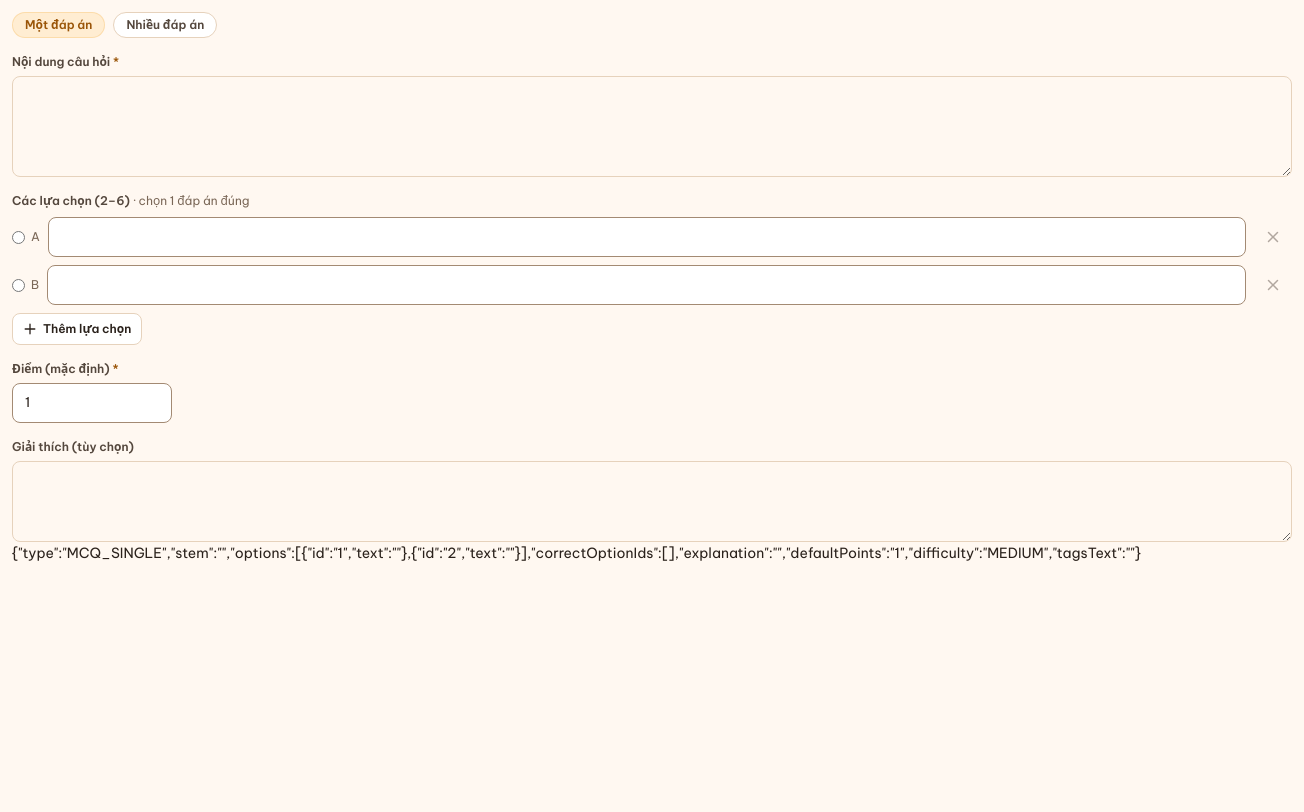
McqEditor › thêm lựa chọn tới 6 thì khóa nút, ít nhất 2 thì không xóa được
Expected: the button with test id "mcq-editor-remove-0" is disabled, [1254,221,1292,253]
Click the button with test id "mcq-editor-add-option" at (77, 329), box [12,313,142,345]
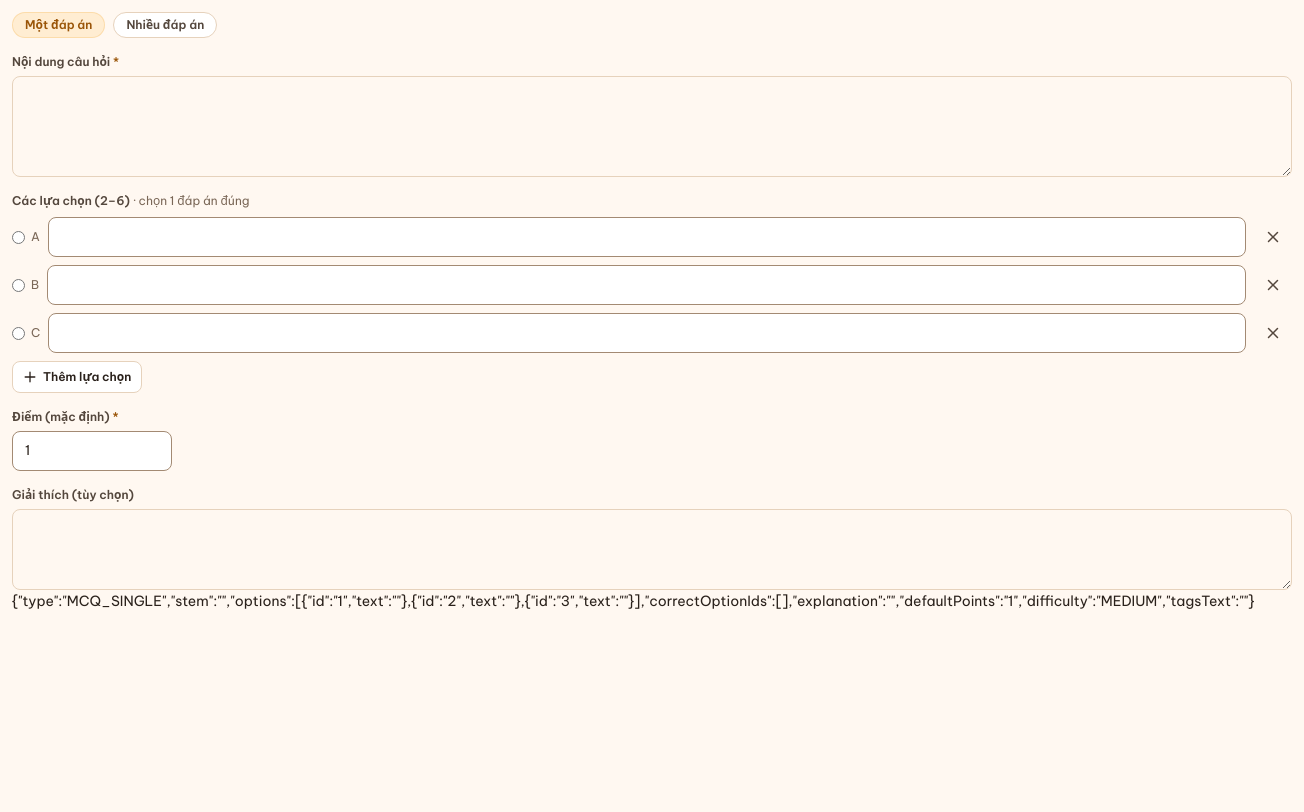
Click the button with test id "mcq-editor-add-option" at (77, 377), box [12,361,142,393]
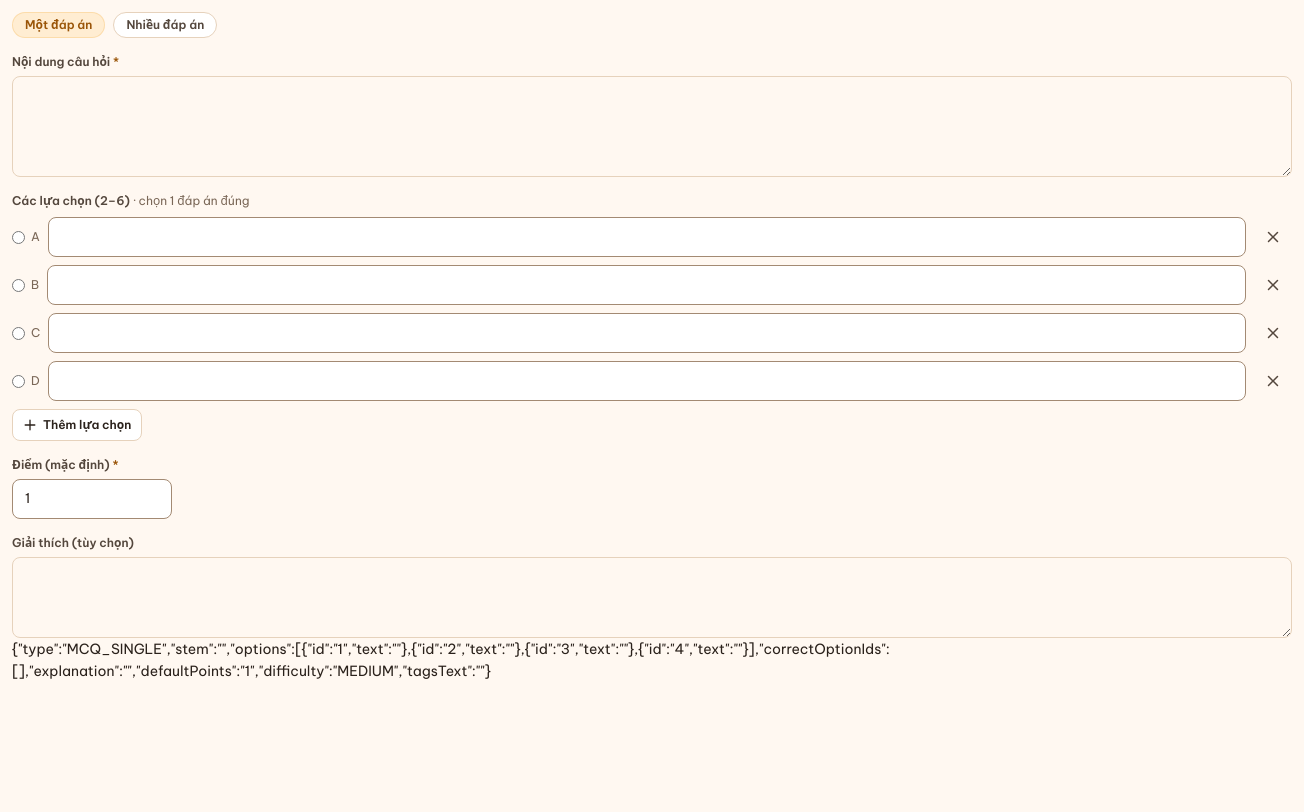
Click the button with test id "mcq-editor-add-option" at (77, 425), box [12,409,142,441]
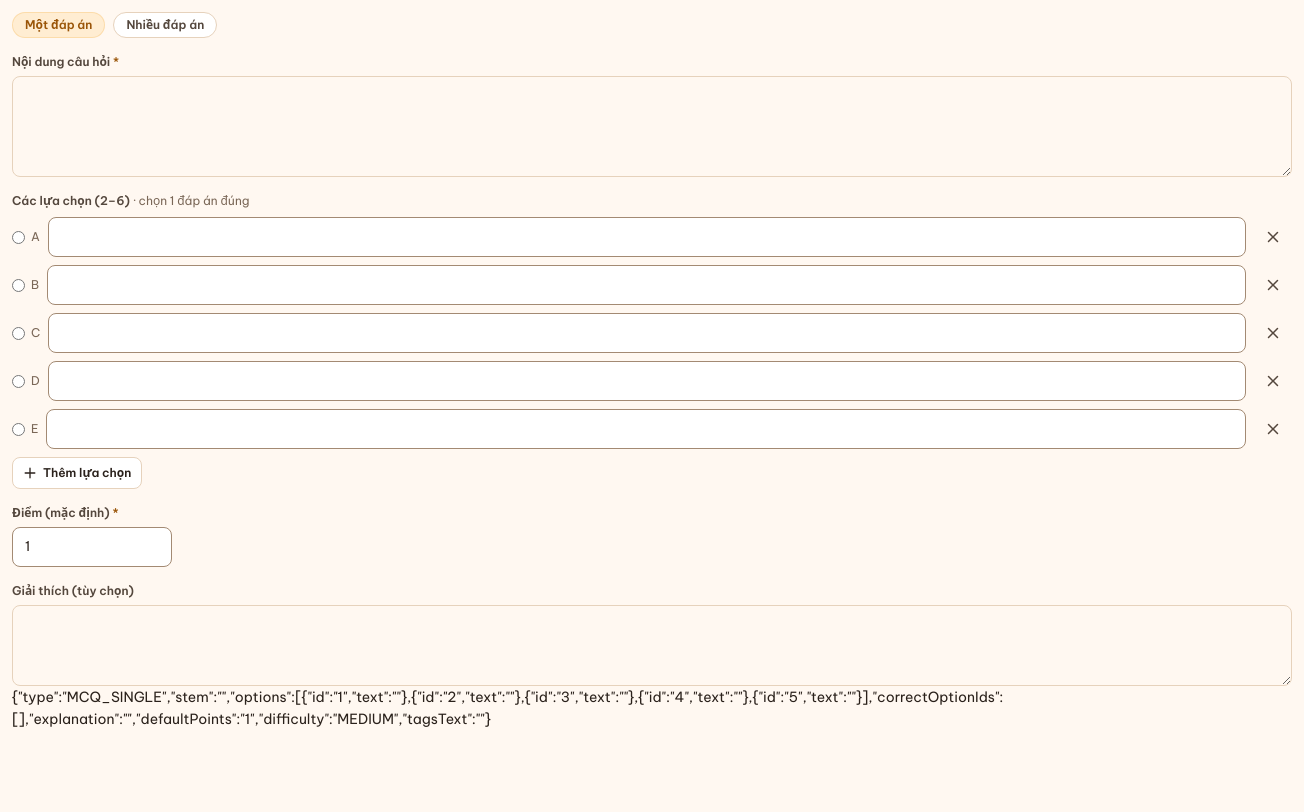
Click the button with test id "mcq-editor-add-option" at (77, 473), box [12,457,142,489]
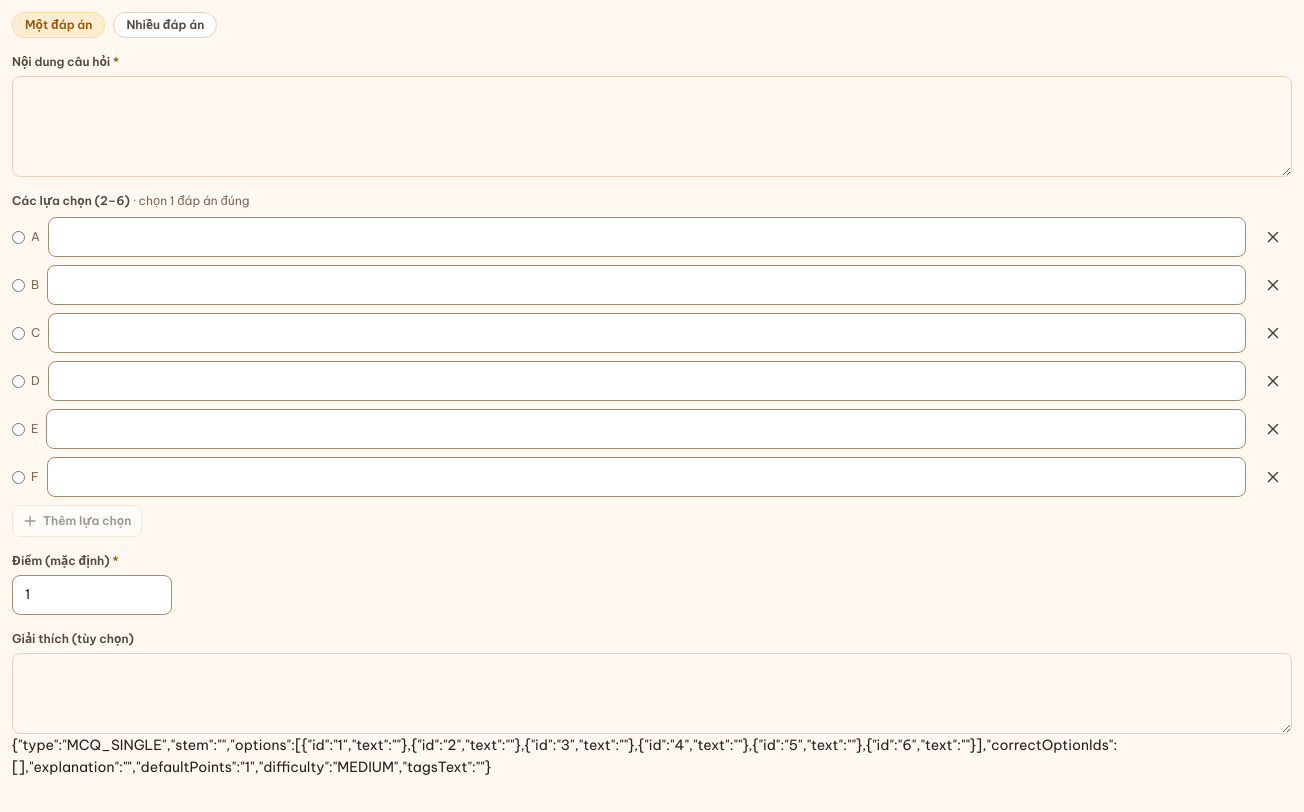
Result: the button with test id "mcq-editor-add-option" is disabled at [12,505,142,537]
